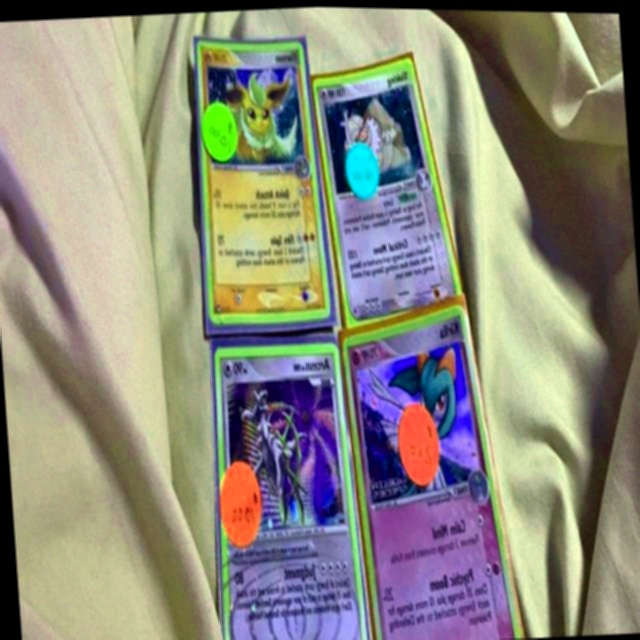card: (342, 301, 522, 640), (214, 340, 369, 640), (312, 55, 465, 328), (196, 38, 331, 326)
